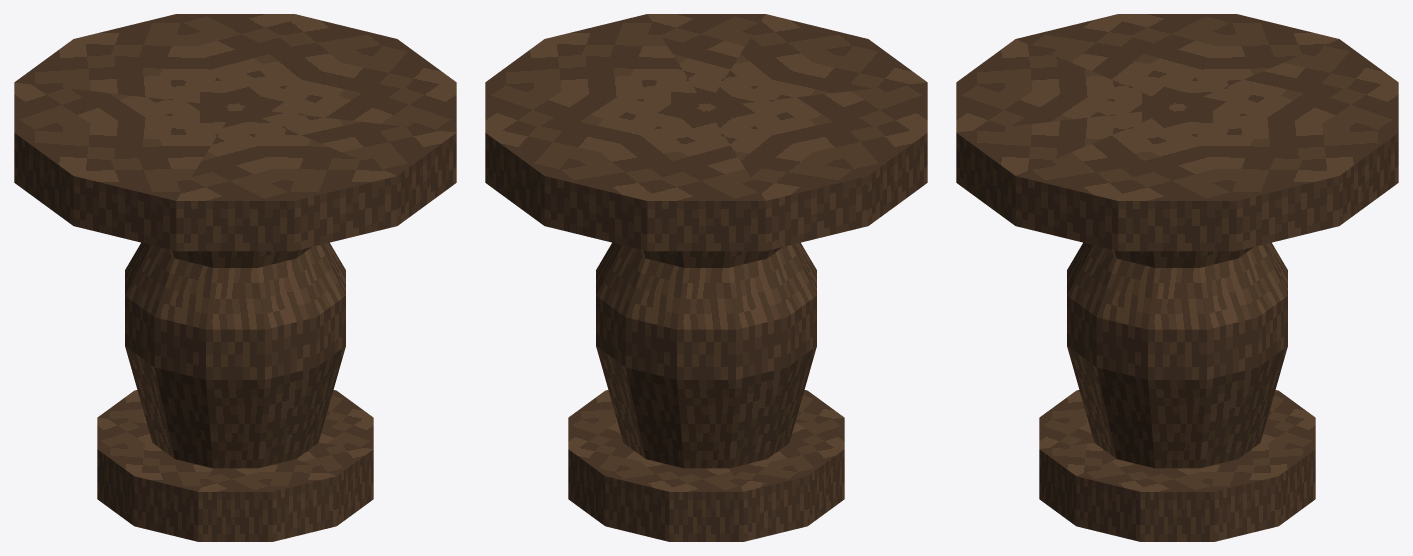
Rendered from Table.gltf.
3 renders of one model, left to right at view 1: azimuth 30°, elevation 25°; view 2: azimuth 150°, elevation 25°; view 3: azimuth 270°, elevation 25°, orthographic.
Visible parts, largest first — view 1: cylinder (×3); view 2: cylinder (×3); view 3: cylinder (×3).
Part boxes in pixels (x1,y1,x2,y2): cylinder (×3): (14,14,456,541); cylinder (×3): (485,14,927,541); cylinder (×3): (956,14,1398,541).
Bounding box in the file's own units: 1 × 0.9375 × 1.
